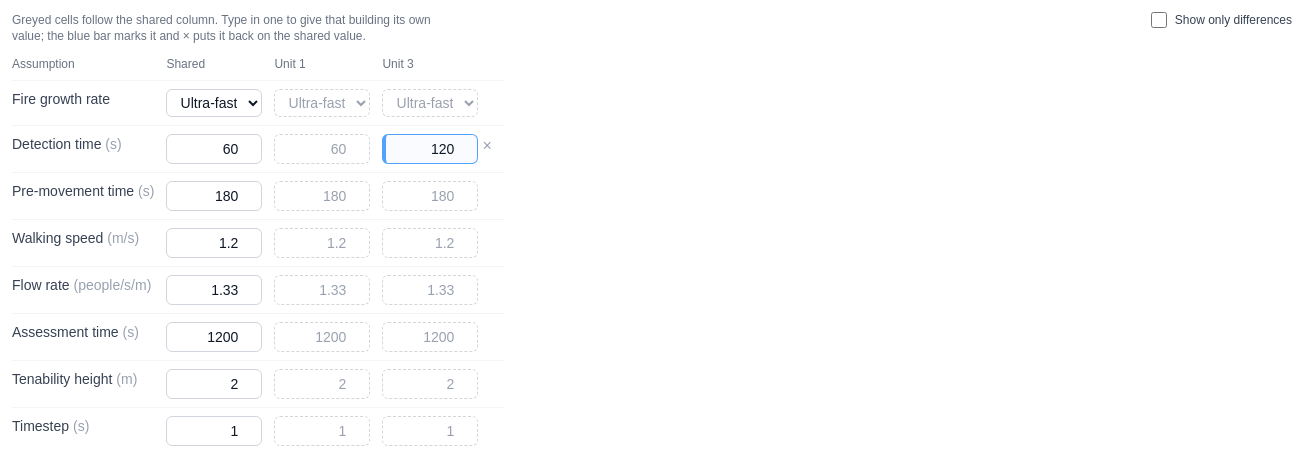
Test case: AssumptionsMatrix › can hide the rows where every building uses the shared value
What coordinates should you click on to do the following:
click the checkbox labelled "Show only differences"
I would click on:
 (1159, 20)
Its box is [1151,12,1167,28].
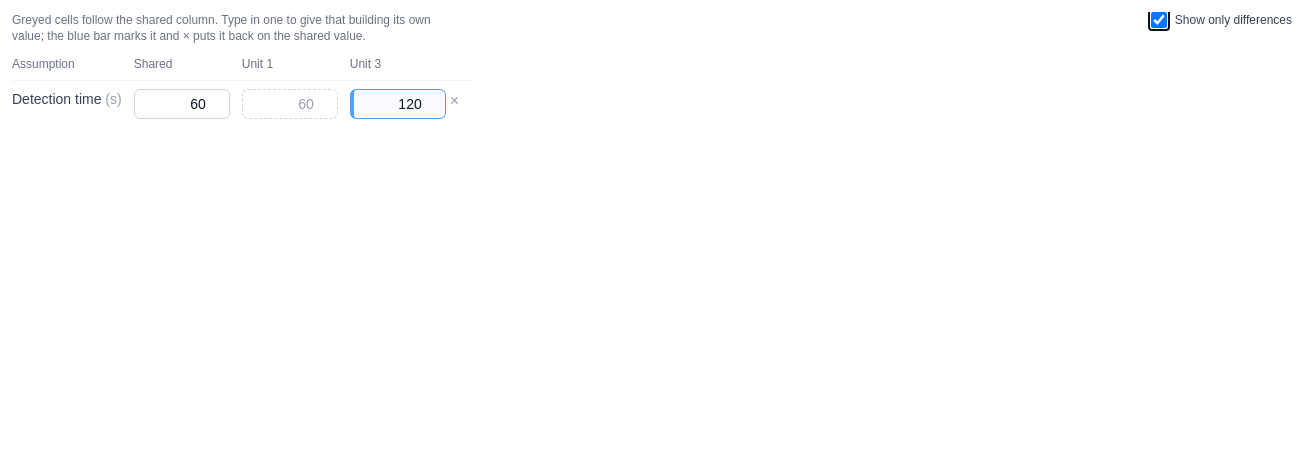
Check: the row "Detection time (s) ×" is shown, box [12,80,471,127]
Check: the column heading "Pre-movement time" is gone
